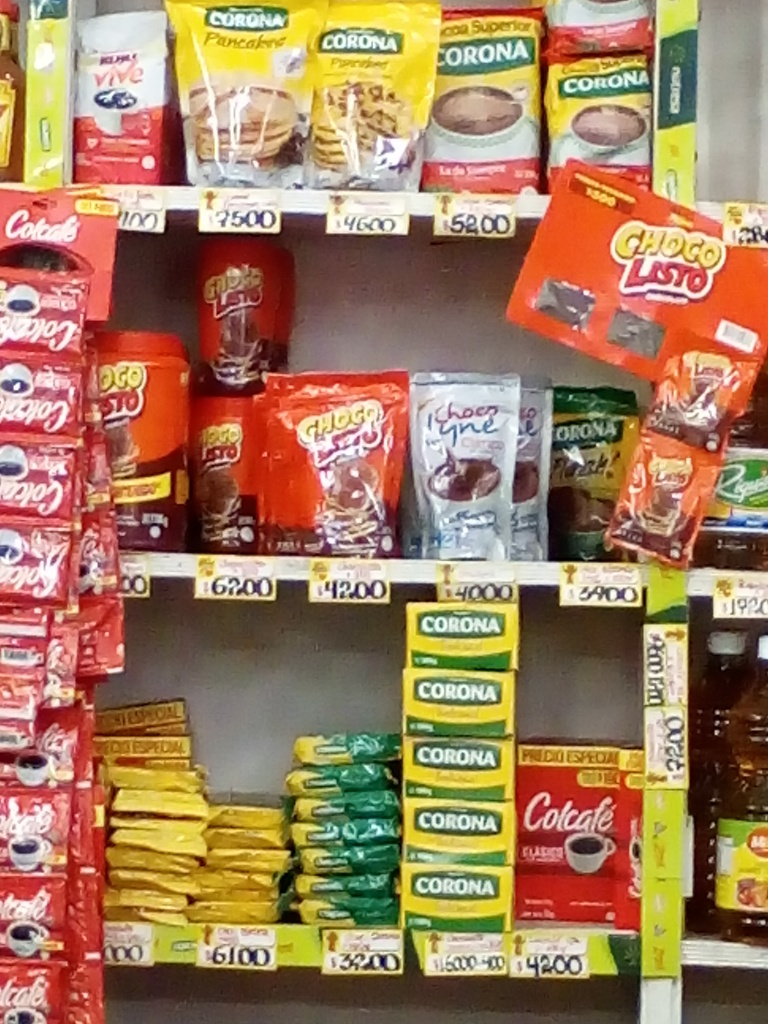COL0170103TRR00100: (80, 321, 194, 546)
